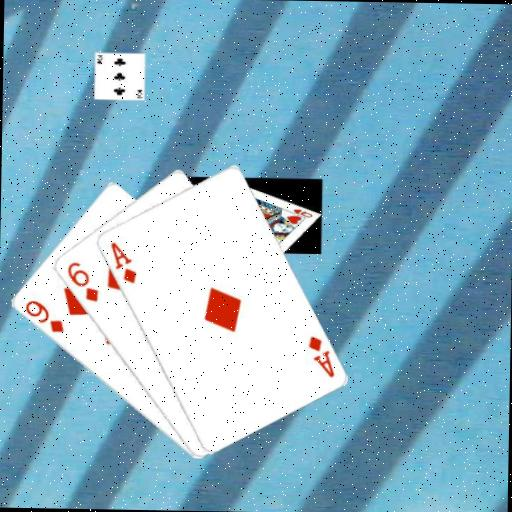6D: (63, 258, 100, 304)
9D: (21, 297, 66, 335)
AD: (304, 332, 337, 379), (107, 238, 139, 285)
